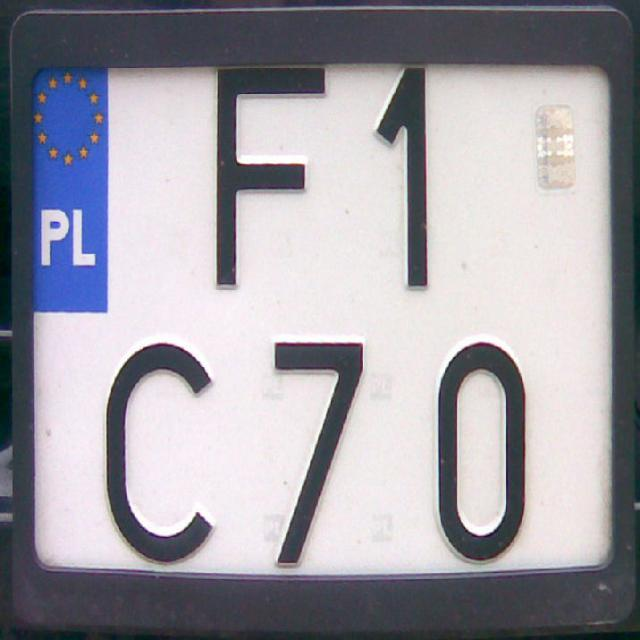pl_license_plate: (30, 65, 610, 572)
